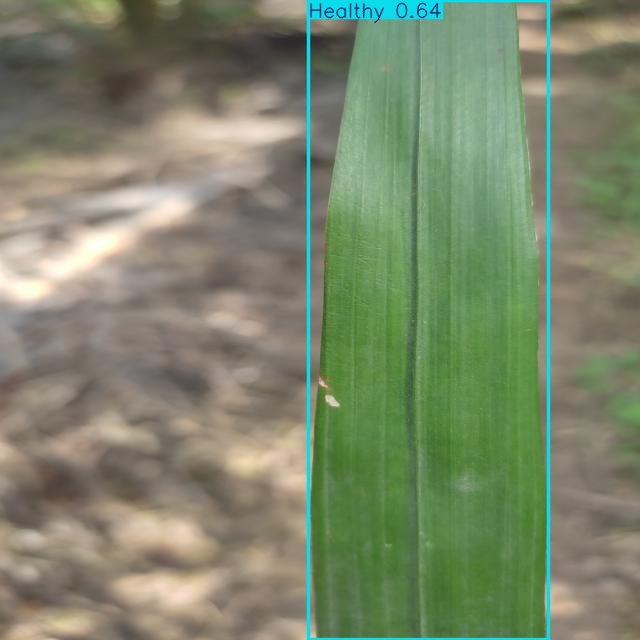Healthy: (309, 0, 549, 640)
